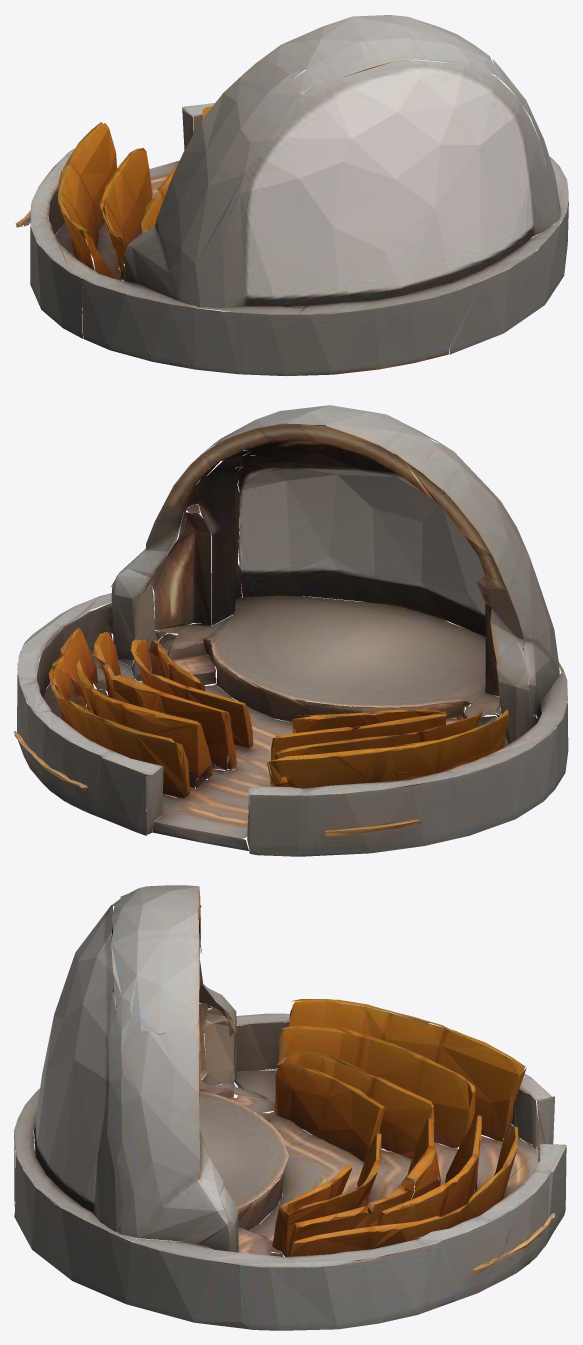
Rendered from theater.glb.
The picture shows the model from 3 angles, top to bottom: view 1: azimuth 30°, elevation 25°; view 2: azimuth 150°, elevation 25°; view 3: azimuth 270°, elevation 25°; orthographic projection. The views are drawn at different scales.
Parts seen in each view (by area): view 1: geometry_0; view 2: geometry_0; view 3: geometry_0.
Part boxes in pixels (left/top/right/bottom): geometry_0: left=15, top=15, right=568, bottom=376; geometry_0: left=14, top=405, right=568, bottom=856; geometry_0: left=14, top=885, right=566, bottom=1330.
Bounding box in the file's own units: 1.8 × 1 × 1.67.
Materials: 1 (1 with a texture image).
